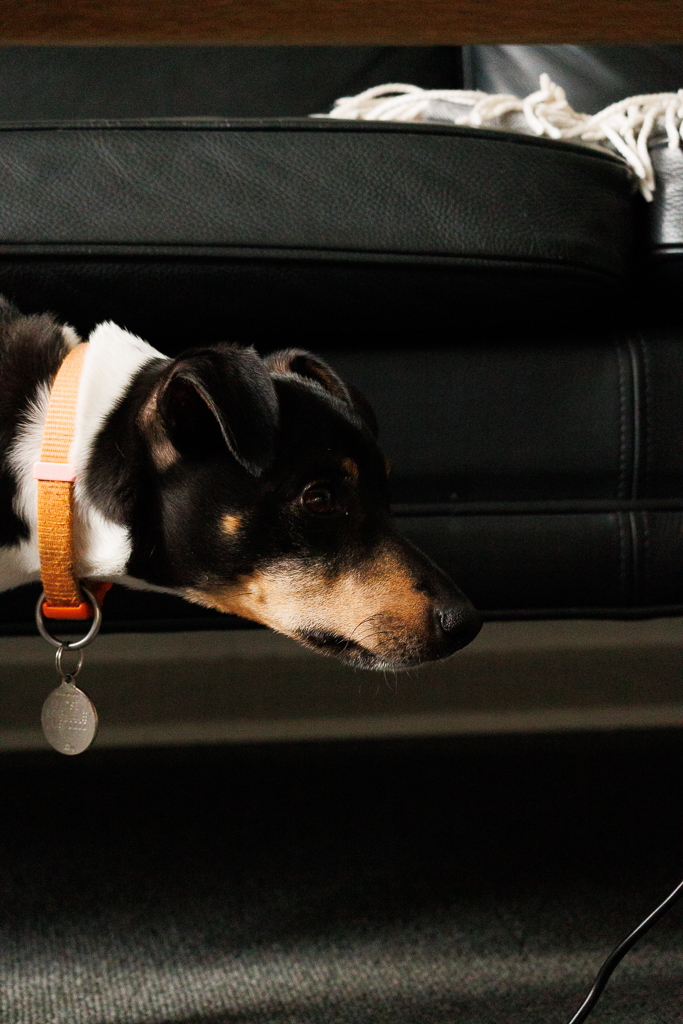Dog: (0, 261, 502, 781)
